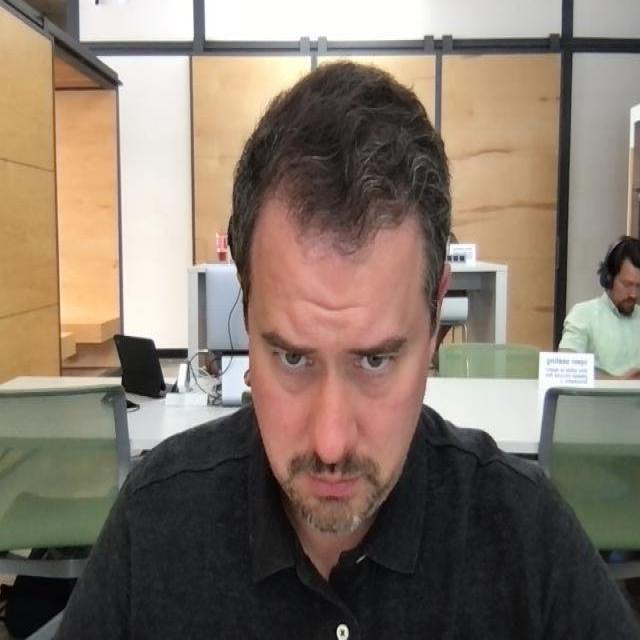face: (229, 63, 453, 540), (598, 237, 640, 319)
